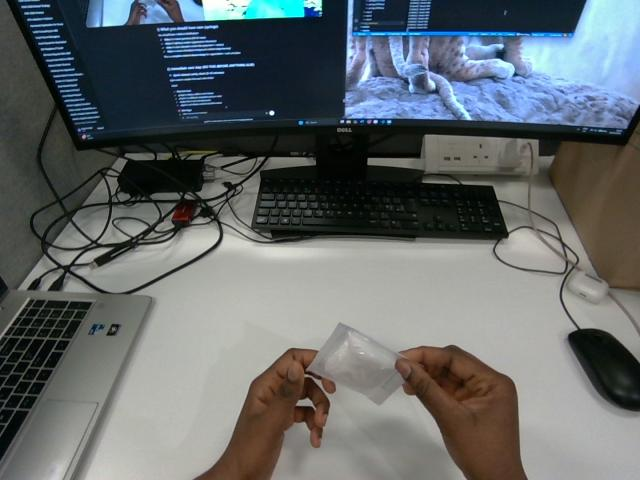gauze: (307, 323, 403, 404)
